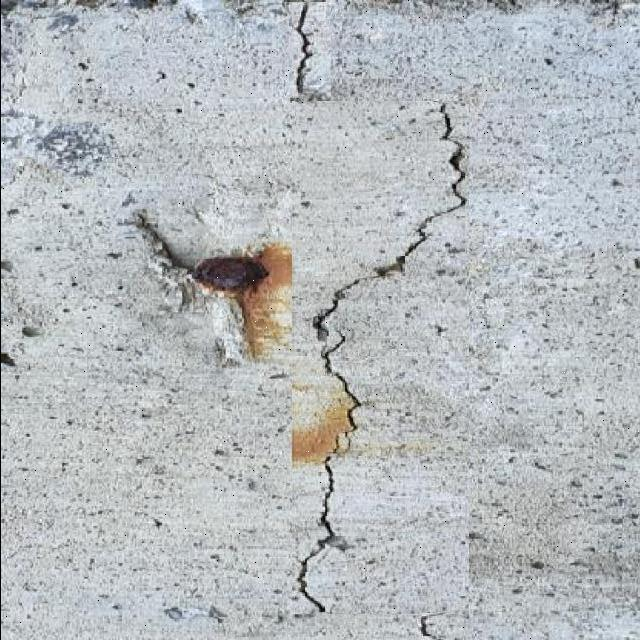crack: (3, 1, 636, 347), (435, 9, 640, 635), (293, 98, 470, 615), (173, 235, 423, 466), (0, 2, 199, 187), (309, 2, 640, 105), (0, 91, 122, 351), (140, 228, 292, 381), (300, 306, 364, 596), (0, 5, 69, 163), (296, 511, 343, 615), (293, 1, 317, 104), (296, 2, 310, 36), (298, 38, 314, 57)
dampens: (130, 209, 195, 274), (439, 105, 454, 141)
